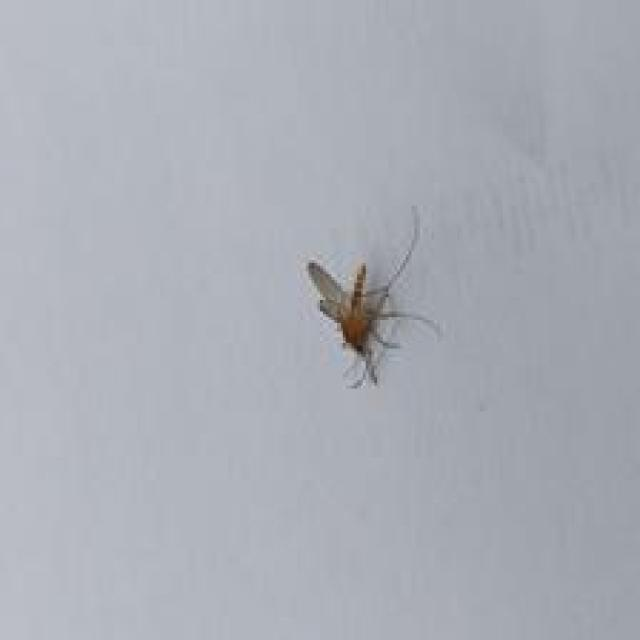Culex: (304, 204, 442, 390)
